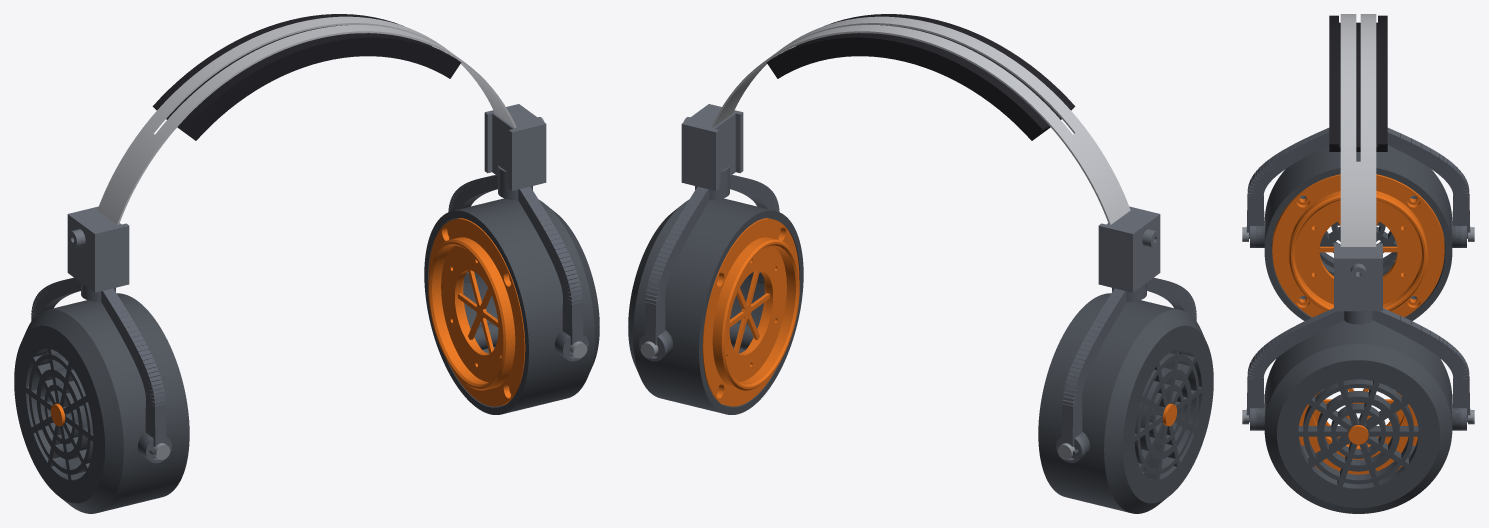
Rendered from daily-driver.glb.
3 views of the same model, side by side, from view 1: azimuth 30°, elevation 25°; view 2: azimuth 150°, elevation 25°; view 3: azimuth 270°, elevation 25° (orthographic). The views are drawn at different scales.
Parts seen in each view (by area): view 1: cup_L, cup_R, baffle_R, bow_ref, headband_pad, yoke_R, yoke_L, slider_L, slider_R; view 2: cup_L, cup_R, baffle_R, bow_ref, headband_pad, yoke_R, yoke_L, slider_L, slider_R; view 3: cup_R, baffle_L, cup_L, bow_ref, yoke_R, yoke_L, headband_pad, slider_R, baffle_R, grille_dot_R.
Part boxes in pixels (x1,y1,x2,y2): cup_L: (14, 293, 189, 513); cup_R: (424, 198, 599, 414); baffle_R: (428, 218, 525, 406); bow_ref: (97, 16, 516, 224); headband_pad: (152, 14, 461, 140); yoke_R: (448, 165, 588, 361); yoke_L: (31, 277, 171, 463); slider_L: (67, 206, 129, 292); slider_R: (484, 104, 546, 190); cup_L: (1038, 293, 1213, 513); cup_R: (628, 198, 803, 414); baffle_R: (702, 218, 799, 406); bow_ref: (711, 16, 1130, 224); headband_pad: (766, 14, 1075, 140); yoke_R: (639, 165, 779, 361); yoke_L: (1056, 277, 1196, 463); slider_L: (1098, 206, 1160, 292); slider_R: (681, 104, 743, 190); cup_R: (1244, 320, 1472, 513); baffle_L: (1272, 174, 1444, 317); cup_L: (1255, 145, 1461, 321); bow_ref: (1340, 14, 1376, 246); yoke_R: (1246, 308, 1470, 430); yoke_L: (1246, 128, 1470, 247); headband_pad: (1329, 15, 1387, 151); slider_R: (1334, 243, 1382, 311); baffle_R: (1299, 388, 1417, 474); grille_dot_R: (1348, 425, 1368, 444).
Size of the model in its own units: 232 by 186 by 104.
